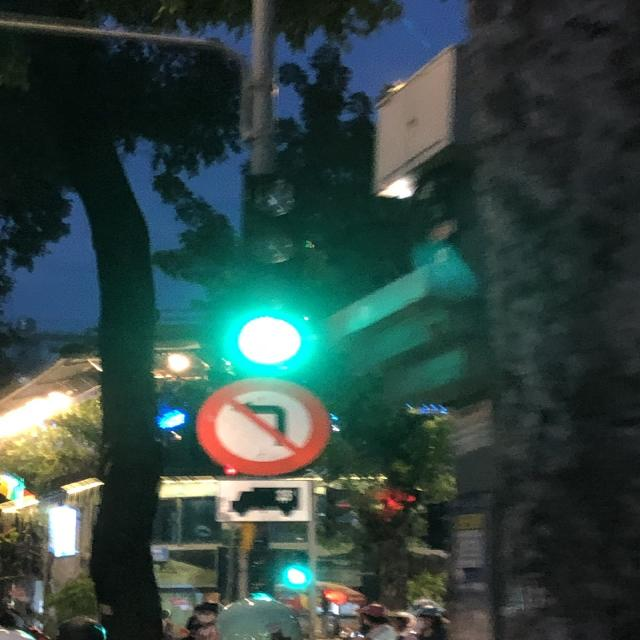Bien bao cam re trai: (197, 369, 346, 481)
